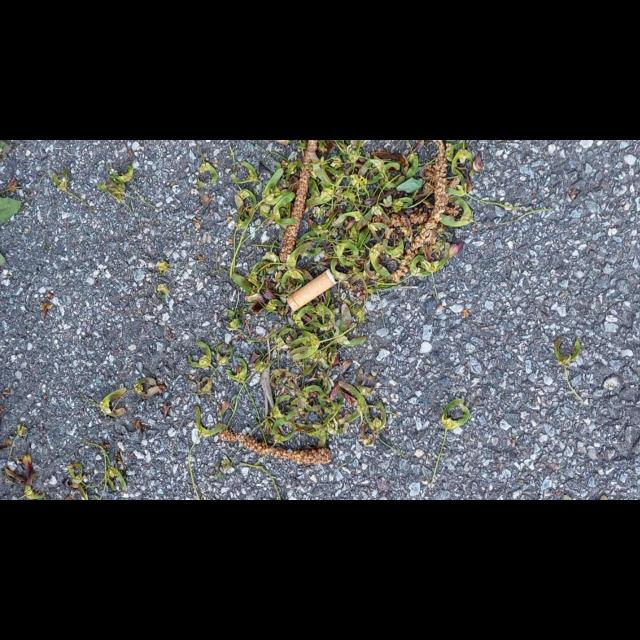cigarette: (285, 268, 337, 312)
